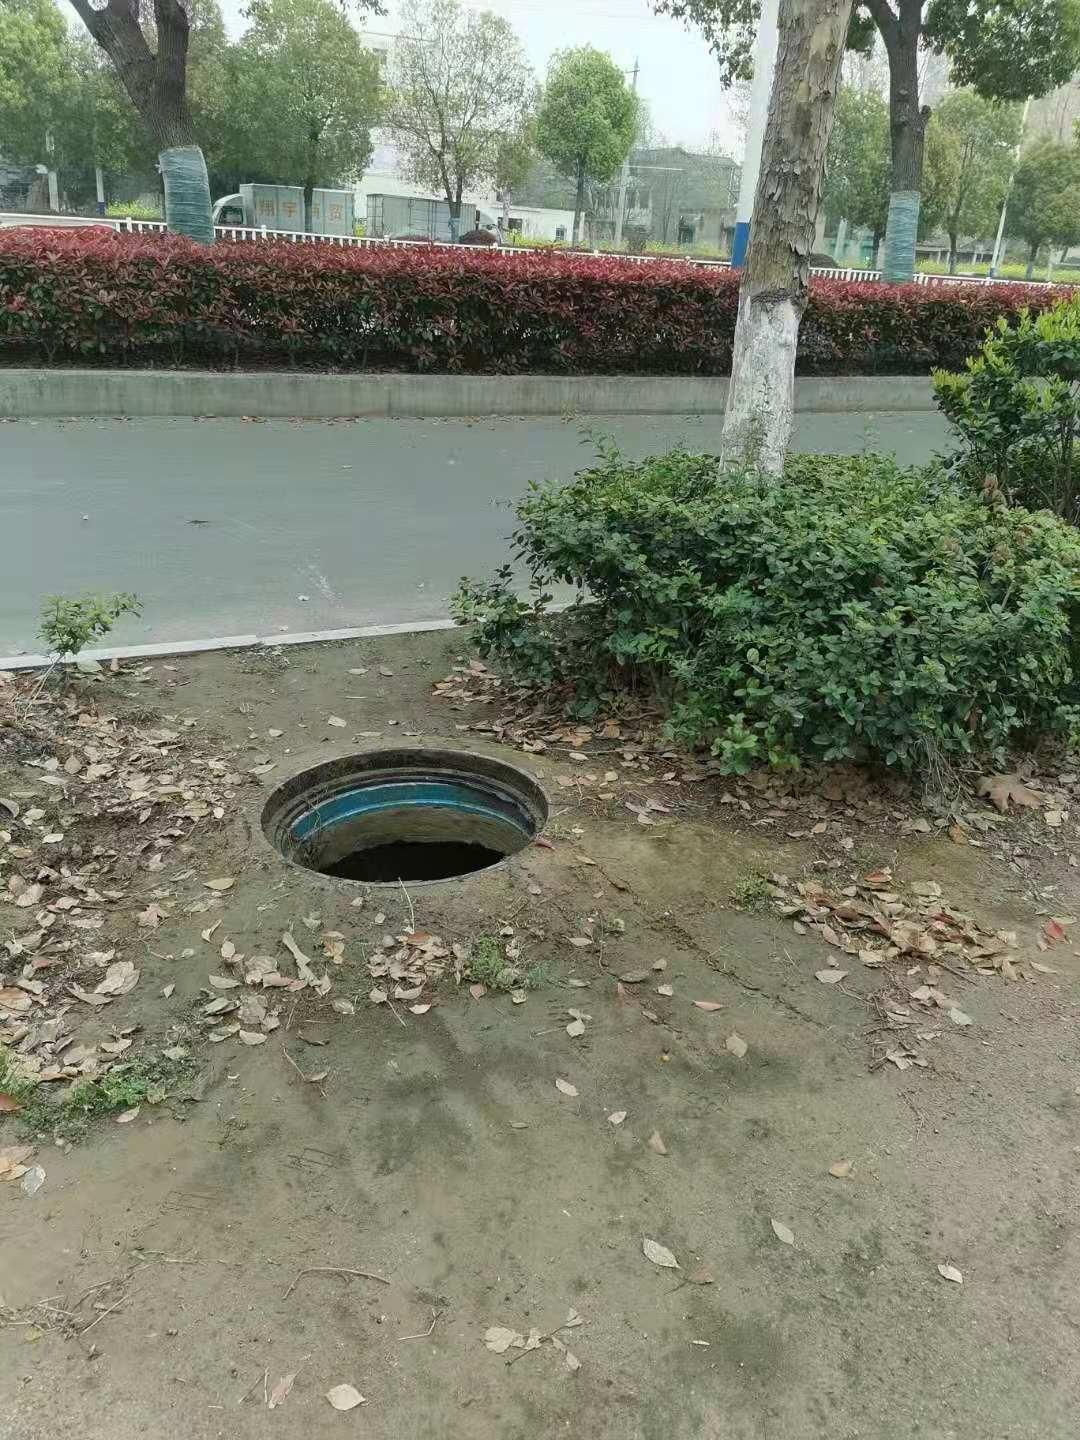wellcover: (253, 719, 548, 875)
